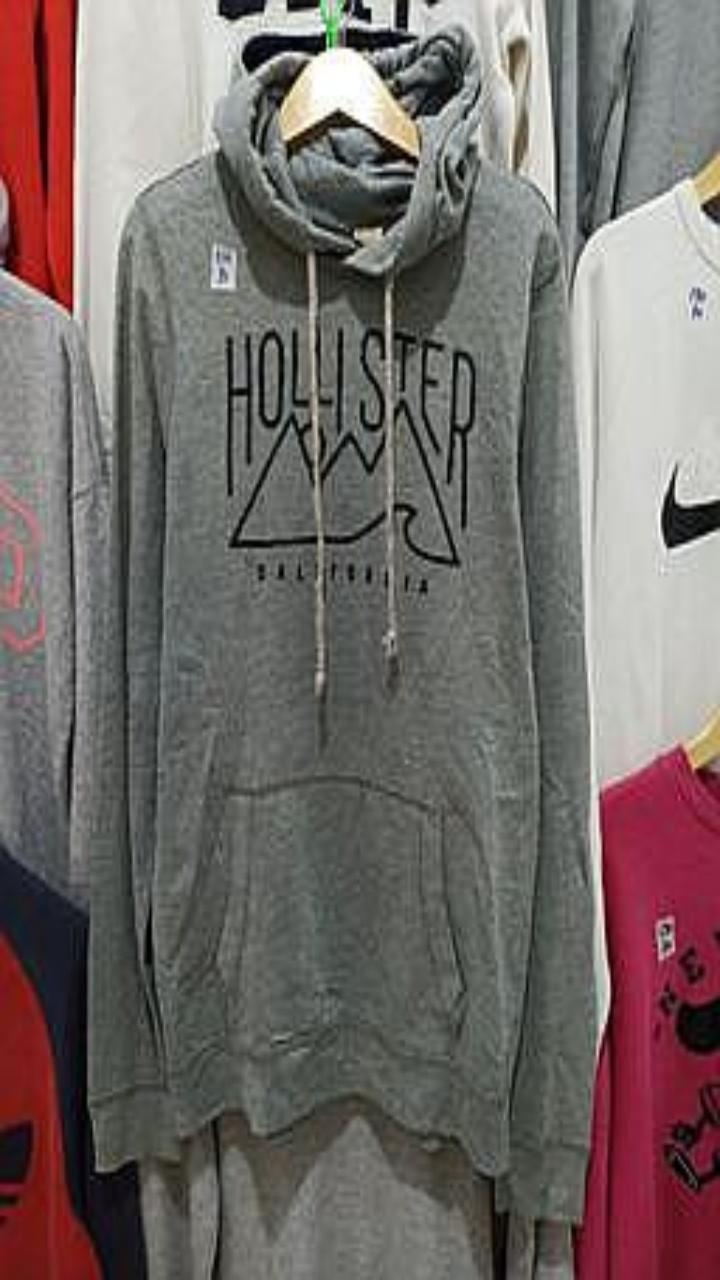Hoodie: (91, 30, 593, 1217), (0, 272, 107, 896)
T-Shirt: (574, 181, 719, 784), (577, 748, 719, 1279)
